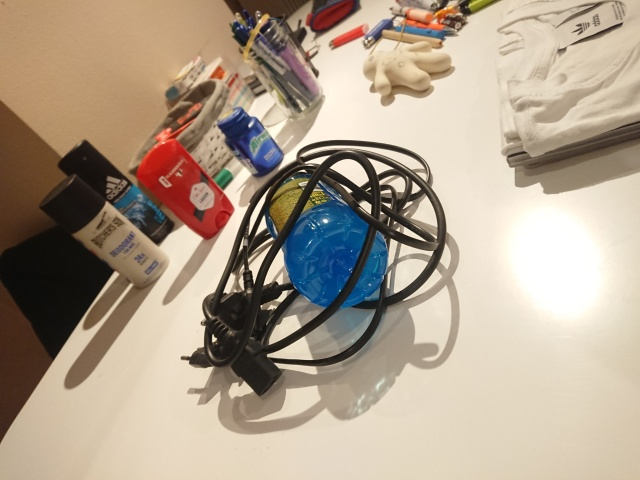Vindi Iso Sport Forest Strawberries 500mL: (263, 167, 390, 311)
